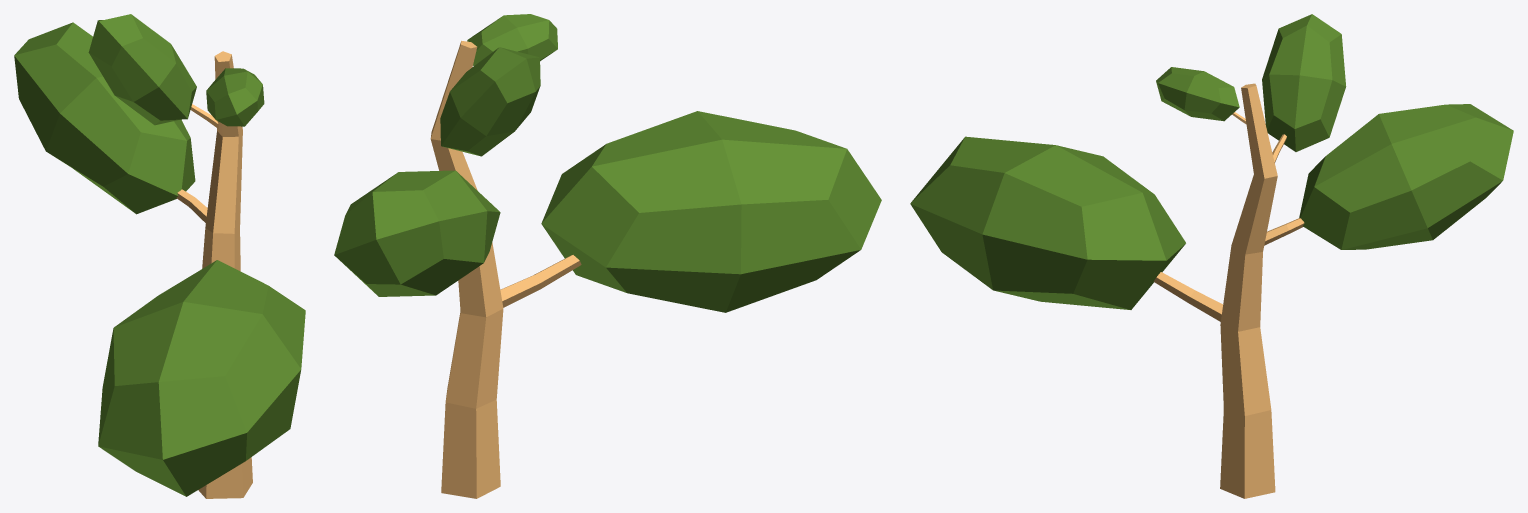
File: bush3.obj
3 views of the same model, side by side, from view 1: azimuth 30°, elevation 25°; view 2: azimuth 150°, elevation 25°; view 3: azimuth 270°, elevation 25° (orthographic). The views are drawn at different scales.
Visible parts, largest first — view 1: main_birch.004_leaf, main_birch.004_wood; view 2: main_birch.004_leaf, main_birch.004_wood; view 3: main_birch.004_leaf, main_birch.004_wood.
Boxes of the visible parts, left/top/right/bottom form: main_birch.004_leaf: left=14, top=14, right=305, bottom=496; main_birch.004_wood: left=176, top=51, right=252, bottom=498; main_birch.004_leaf: left=334, top=14, right=881, bottom=312; main_birch.004_wood: left=430, top=40, right=581, bottom=498; main_birch.004_leaf: left=910, top=14, right=1513, bottom=309; main_birch.004_wood: left=1153, top=83, right=1304, bottom=498.
Size of the model in its own units: 2.06 by 3.25 by 4.1.
